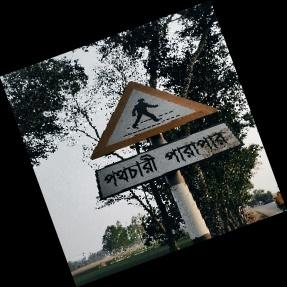Pedestrian-crossing: (90, 81, 246, 200)
